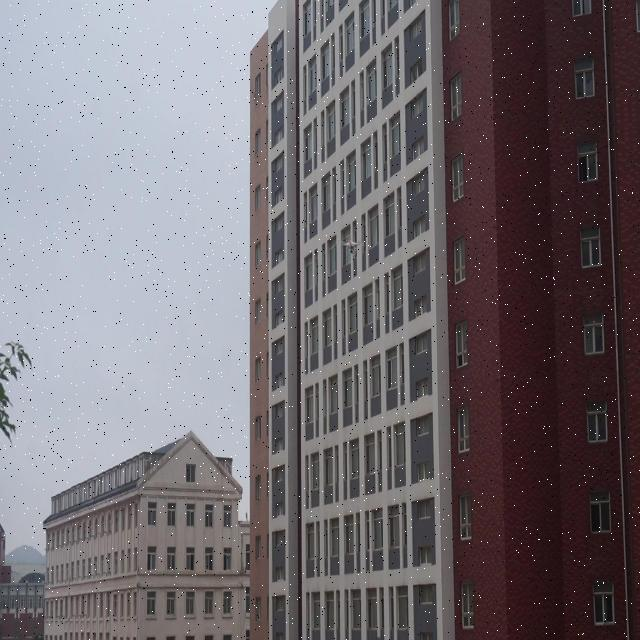UAV: (340, 240, 364, 254)
